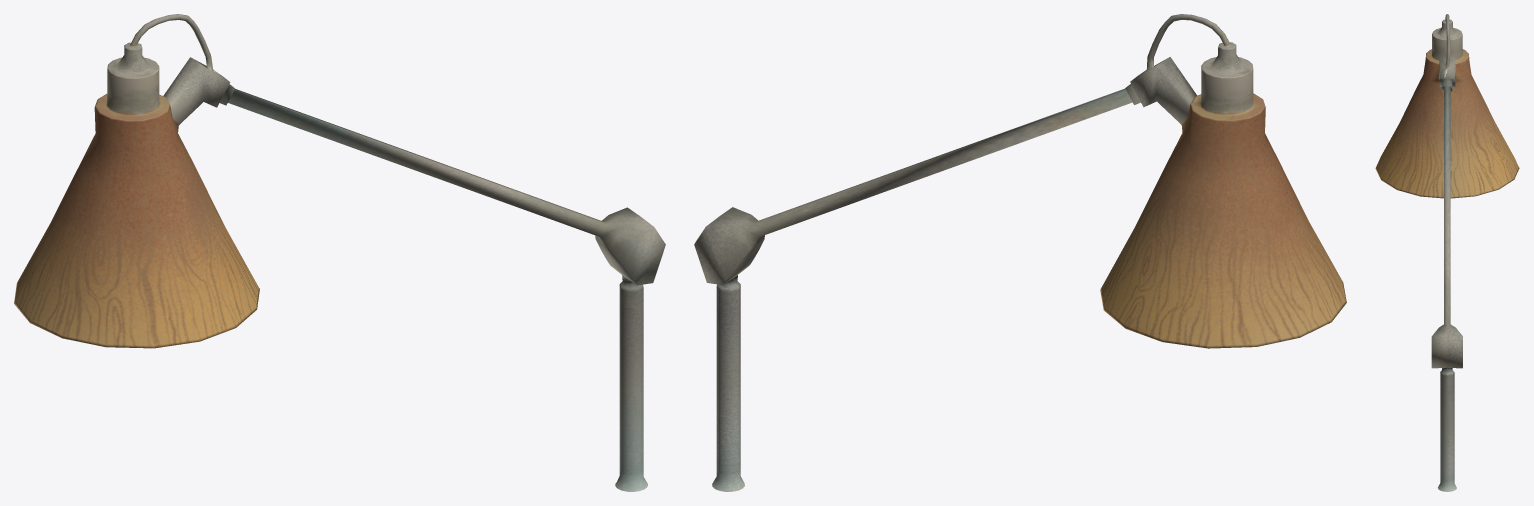
File: Desk_lamp_V1.fbx
3 views of the same model, side by side, from view 1: azimuth 30°, elevation 25°; view 2: azimuth 150°, elevation 25°; view 3: azimuth 270°, elevation 25° (orthographic). The views are drawn at different scales.
Parts seen in each view (by area): view 1: Light_v1.1; view 2: Light_v1.1; view 3: Light_v1.1.
Boxes of the visible parts, x1,y1,x2,y2 form: Light_v1.1: [14, 14, 665, 491]; Light_v1.1: [694, 14, 1346, 491]; Light_v1.1: [1375, 14, 1519, 491].
Size of the model in its own units: 660 by 589 by 228.
2 materials, 1 textured.
